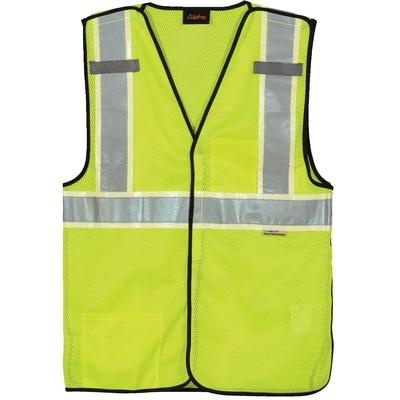safety vest: (53, 4, 339, 396)
